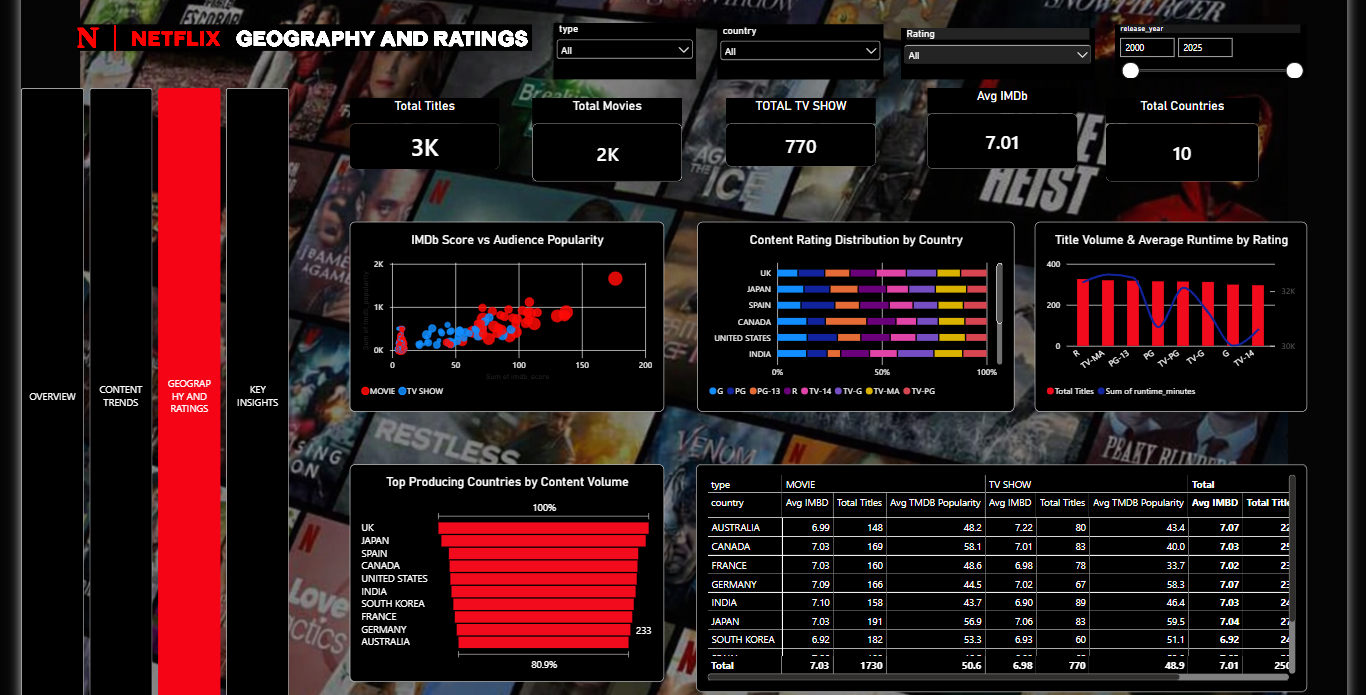

The dashboard page shown, as its layout file describes it:
{"tool":"powerbi","page":{"name":"GEOGRAPHY AND RATINGS","canvas":[1920,1080],"ordinal":2},"visuals":[{"type":"image","box":[0,0,1920.1,1080.4],"z":0},{"type":"cardVisual","title":"TOTAL MOVIES","fields":{"Data":["netflix_real_time_project_dataset.total Movies"]},"box":[436.1,291.4,217.2,103.2],"z":1000},{"type":"cardVisual","title":"MOVIE %","fields":{"Data":["netflix_real_time_project_dataset.movie %"]},"box":[436.1,439.7,217.2,121.2],"z":2000},{"type":"cardVisual","title":"TOTAL TV SHOW","fields":{"Data":["netflix_real_time_project_dataset.total TV Shows"]},"box":[436.1,617.1,217.2,99.5],"z":3000},{"type":"cardVisual","title":"TV SHOW %","fields":{"Data":["netflix_real_time_project_dataset.TV Show %"]},"box":[436.1,781.8,217.2,117.6],"z":4000},{"type":"slicer","fields":{"Values":["netflix_real_time_project_dataset.type"]},"box":[770.9,94.1,206.3,81.4],"z":5000},{"type":"slicer","fields":{"Values":["netflix_real_time_project_dataset.country"]},"box":[1008,95.9,240.7,79.6],"z":6000},{"type":"slicer","fields":{"Values":["netflix_real_time_project_dataset.release_year"]},"box":[1583.5,95.9,276.9,77.8],"z":7000},{"type":"pageNavigator","box":[0,188.2,389.1,892.2],"z":8000},{"type":"image","box":[457.8,343.8,32.6,39.8],"z":9000},{"type":"image","box":[436.1,495.8,63.3,43.4],"z":10000},{"type":"image","box":[457.8,647.9,32.6,68.8],"z":11000},{"type":"image","box":[457.8,818,32.6,81.4],"z":12000},{"type":"slicer","fields":{"Values":["netflix_real_time_project_dataset.rating"]},"box":[1274,101.3,280.5,74.2],"z":13000},{"type":"areaChart","title":"Content Released by Year","fields":{"Category":["netflix_real_time_project_dataset.release_year"],"Y":["CountNonNull(netflix_real_time_project_dataset.show_id)"]},"box":[740.2,255.2,533.8,347.5],"z":14000},{"type":"clusteredBarChart","title":"Content by Rating","fields":{"Category":["netflix_real_time_project_dataset.rating"],"Y":["CountNonNull(netflix_real_time_project_dataset.show_id)"]},"box":[1310.2,255.2,537.5,347.5],"z":15000},{"type":"barChart","title":"Top 10 Countries","fields":{"Category":["netflix_real_time_project_dataset.country"],"Y":["CountNonNull(netflix_real_time_project_dataset.show_id)"]},"box":[740.2,682.2,533.8,334.8],"z":16000},{"type":"donutChart","title":"Movies vs TV Shows","fields":{"Category":["netflix_real_time_project_dataset.type"],"Y":["CountNonNull(netflix_real_time_project_dataset.show_id)"]},"box":[1331.9,682.2,515.8,334.8],"z":17000},{"type":"image","box":[85.1,0,642.4,188.2],"z":18000}]}

Visuals, with their boxes on the page's 1920x1080 design canvas (x1, y1, x2, y2). These are canvas units, not pixel positions in the 1366x695 screenshot, which may show the page scaled, cropped or inside an application window:
image: bbox=(0, 0, 1920, 1080)
"TOTAL MOVIES" cardVisual: bbox=(436, 291, 653, 395)
"MOVIE %" cardVisual: bbox=(436, 440, 653, 561)
"TOTAL TV SHOW" cardVisual: bbox=(436, 617, 653, 717)
"TV SHOW %" cardVisual: bbox=(436, 782, 653, 899)
slicer - netflix_real_time_project_dataset.type: bbox=(771, 94, 977, 176)
slicer - netflix_real_time_project_dataset.country: bbox=(1008, 96, 1249, 176)
slicer - netflix_real_time_project_dataset.release_year: bbox=(1584, 96, 1860, 174)
pageNavigator: bbox=(0, 188, 389, 1080)
image: bbox=(458, 344, 490, 384)
image: bbox=(436, 496, 499, 539)
image: bbox=(458, 648, 490, 717)
image: bbox=(458, 818, 490, 899)
slicer - netflix_real_time_project_dataset.rating: bbox=(1274, 101, 1554, 176)
"Content Released by Year" areaChart: bbox=(740, 255, 1274, 603)
"Content by Rating" clusteredBarChart: bbox=(1310, 255, 1848, 603)
"Top 10 Countries" barChart: bbox=(740, 682, 1274, 1017)
"Movies vs TV Shows" donutChart: bbox=(1332, 682, 1848, 1017)
image: bbox=(85, 0, 728, 188)
